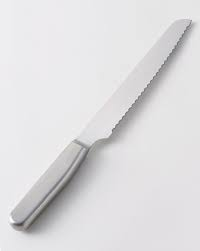breadknife: (10, 19, 193, 233)
